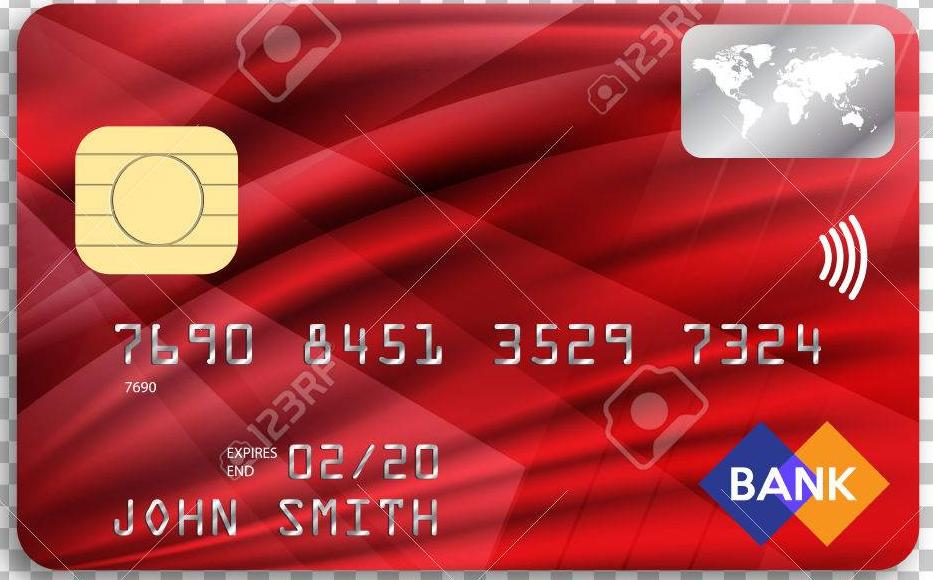payment_card: (19, 1, 921, 577)
